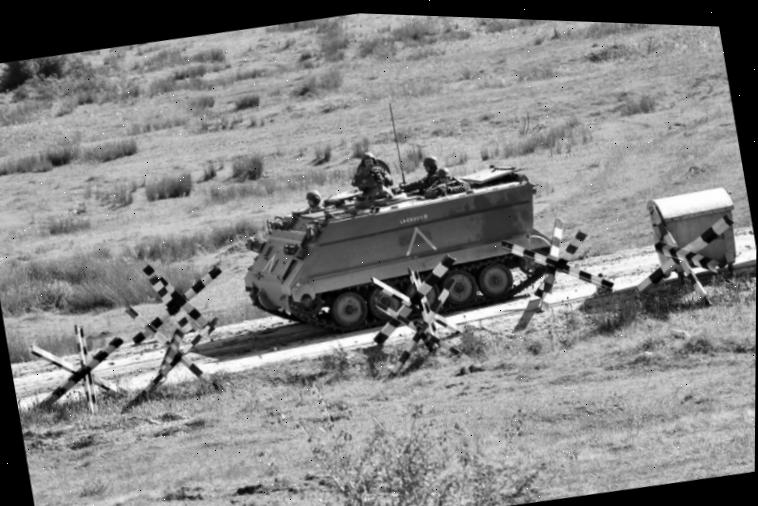armored_car: (224, 135, 562, 357)
